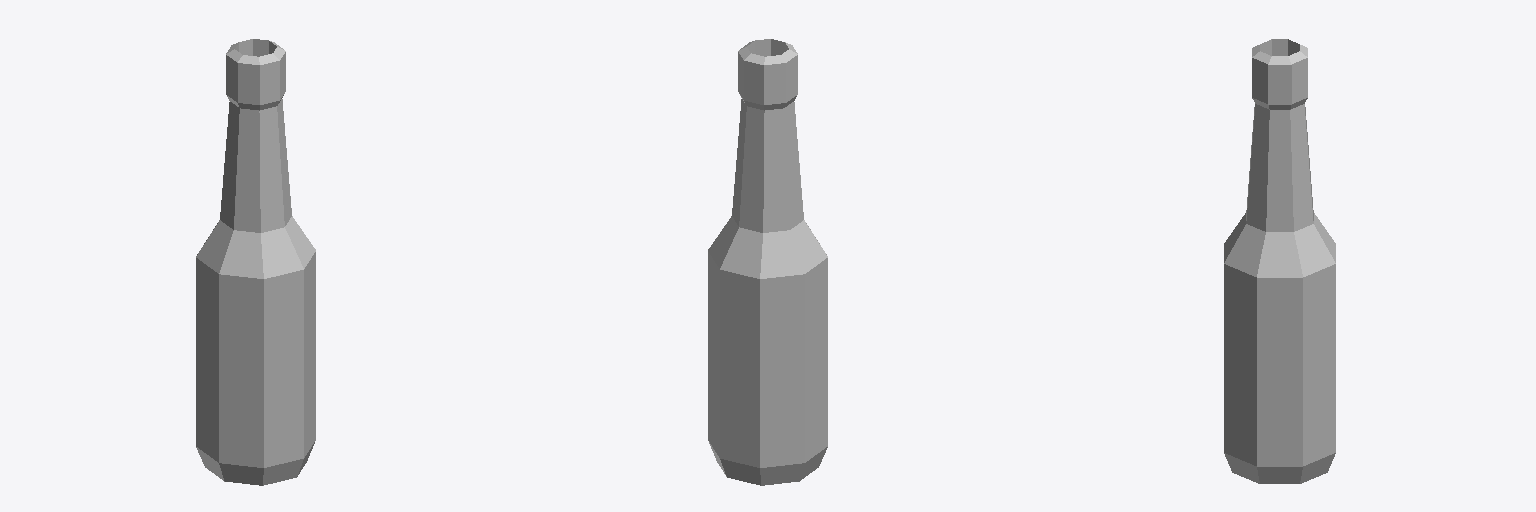
File: beer.obj
3 renders of one model, left to right at view 1: azimuth 30°, elevation 25°; view 2: azimuth 150°, elevation 25°; view 3: azimuth 270°, elevation 25°, orthographic.
Visible parts, largest first — view 1: sphere_selection; view 2: sphere_selection; view 3: sphere_selection.
Boxes of the visible parts, box(x1,y1,x2,y2) form: sphere_selection: box(196, 39, 315, 485); sphere_selection: box(708, 39, 827, 485); sphere_selection: box(1224, 39, 1335, 483).
Size of the model in its own units: 0.4375 by 1.79 by 0.4375.